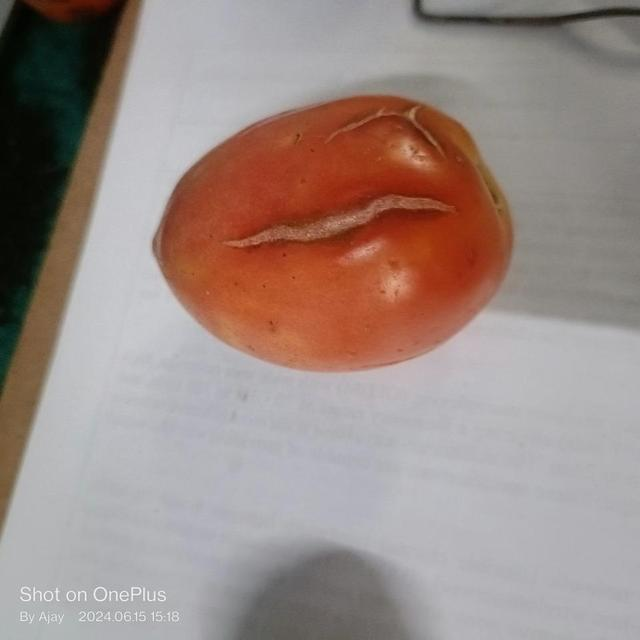Cracking Fruit: (252, 78, 291, 142)
